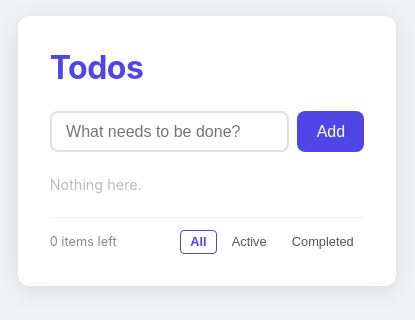
App — adding todos › adds a todo and shows it in the list
This screenshot has width=415, height=320.
Type "Buy milk" into the field named "new todo".
click(170, 132); type("Buy milk")  # box [50,111,290,152]
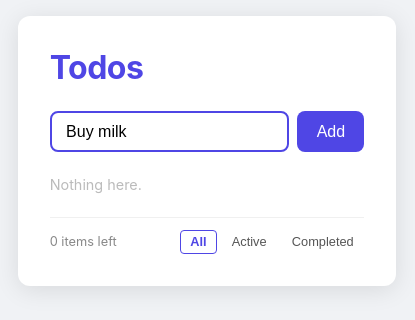
Click the button "Add".
click(331, 132)  # box [298,111,364,152]
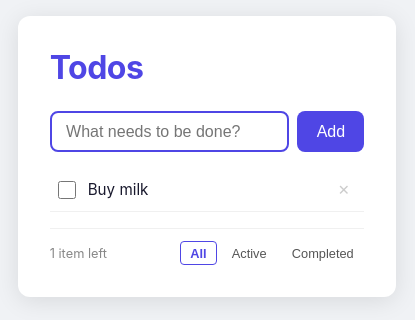
expect the text "Buy milk" is shown: met, box [88,180,148,199]
expect the text "1 item left" is shown: met, box [50,246,107,260]
